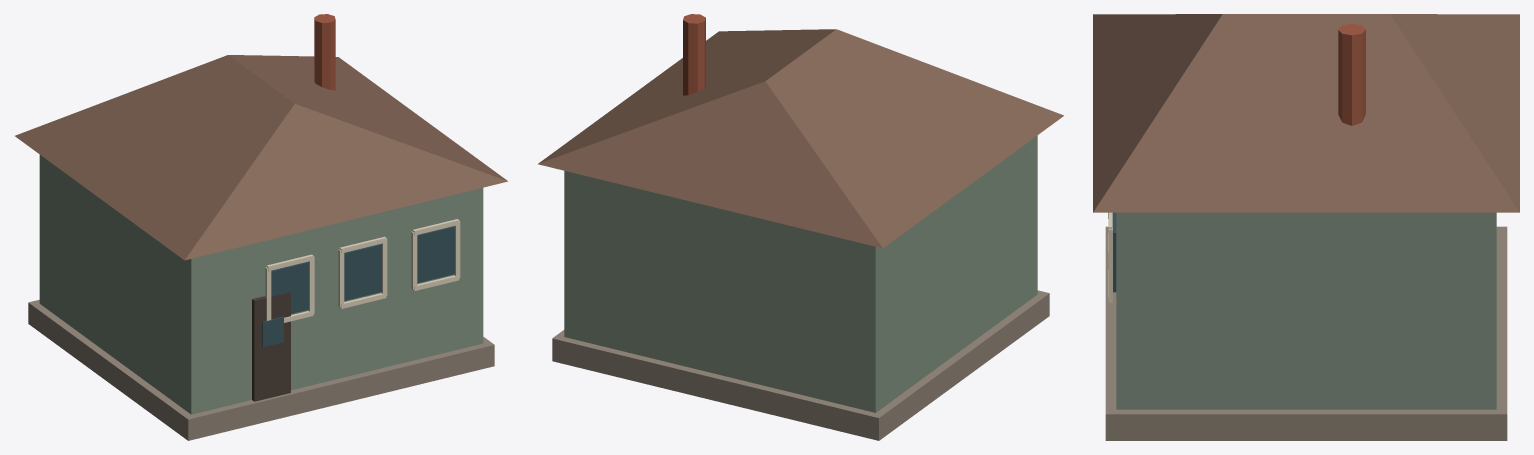
File: arizona-timber-house-hipped_lod0.glb
3 renders of one model, left to right at view 1: azimuth 30°, elevation 25°; view 2: azimuth 150°, elevation 25°; view 3: azimuth 270°, elevation 25°, orthographic. The views are drawn at different scales.
Visible parts, largest first — view 1: RF_AZ_Hip_HippedRoof, RF_AZ_Hip_Walls, RF_AZ_Hip_Foundation, RF_AZ_Hip_Door, RF_AZ_Hip_Window.002, RF_AZ_Hip_Window.001, RF_AZ_Hip_Chimney, RF_AZ_Hip_Window, RF_AZ_Hip_DoorGlass; view 2: RF_AZ_Hip_Walls, RF_AZ_Hip_HippedRoof, RF_AZ_Hip_Foundation, RF_AZ_Hip_Chimney; view 3: RF_AZ_Hip_HippedRoof, RF_AZ_Hip_Walls, RF_AZ_Hip_Foundation, RF_AZ_Hip_Chimney.
Part boxes in pixels (x1,y1,x2,y2): RF_AZ_Hip_HippedRoof: (15, 55, 507, 260); RF_AZ_Hip_Walls: (39, 155, 483, 414); RF_AZ_Hip_Foundation: (28, 299, 494, 440); RF_AZ_Hip_Door: (252, 292, 290, 401); RF_AZ_Hip_Window.002: (417, 226, 454, 283); RF_AZ_Hip_Window.001: (344, 244, 381, 300); RF_AZ_Hip_Chimney: (314, 14, 335, 90); RF_AZ_Hip_Window: (271, 261, 308, 313); RF_AZ_Hip_DoorGlass: (262, 316, 283, 347); RF_AZ_Hip_Walls: (564, 135, 1037, 412); RF_AZ_Hip_HippedRoof: (538, 29, 1063, 248); RF_AZ_Hip_Foundation: (552, 290, 1049, 440); RF_AZ_Hip_Chimney: (683, 14, 705, 95); RF_AZ_Hip_HippedRoof: (1093, 14, 1519, 212); RF_AZ_Hip_Walls: (1116, 212, 1496, 409); RF_AZ_Hip_Foundation: (1105, 226, 1507, 440); RF_AZ_Hip_Chimney: (1338, 23, 1365, 125).
Bounding box in the file's own units: 11.1 × 9.6 × 10.1.
